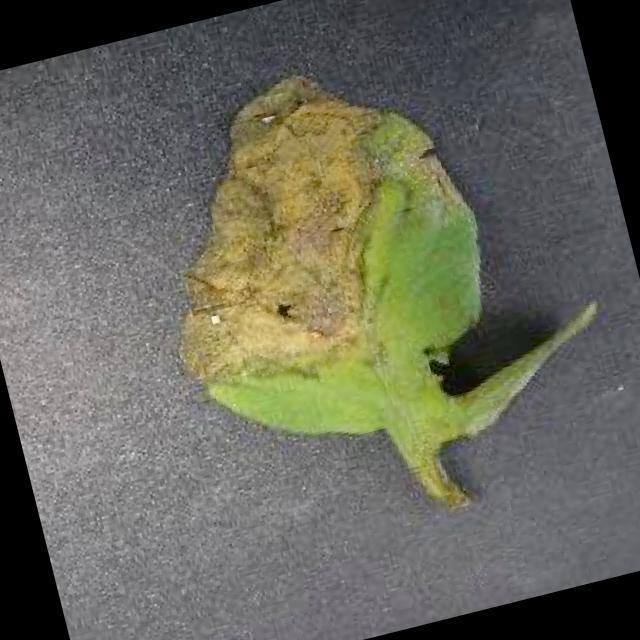Tomato late blight leaf: (118, 35, 520, 475)
